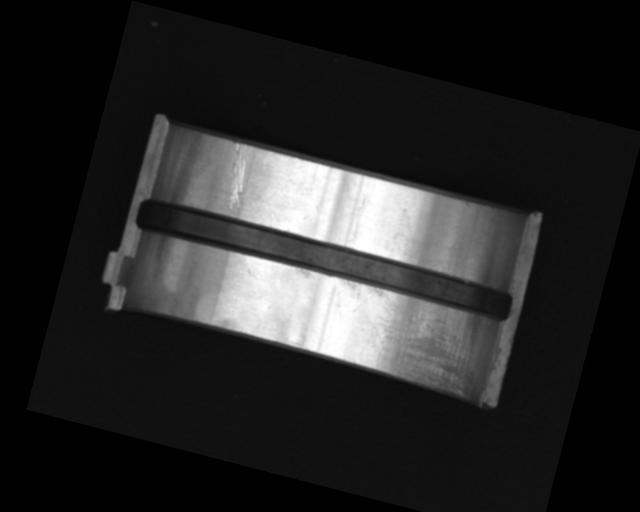gap: (132, 195, 515, 326)
nick: (217, 140, 257, 212)
scratch: (350, 286, 492, 402)
